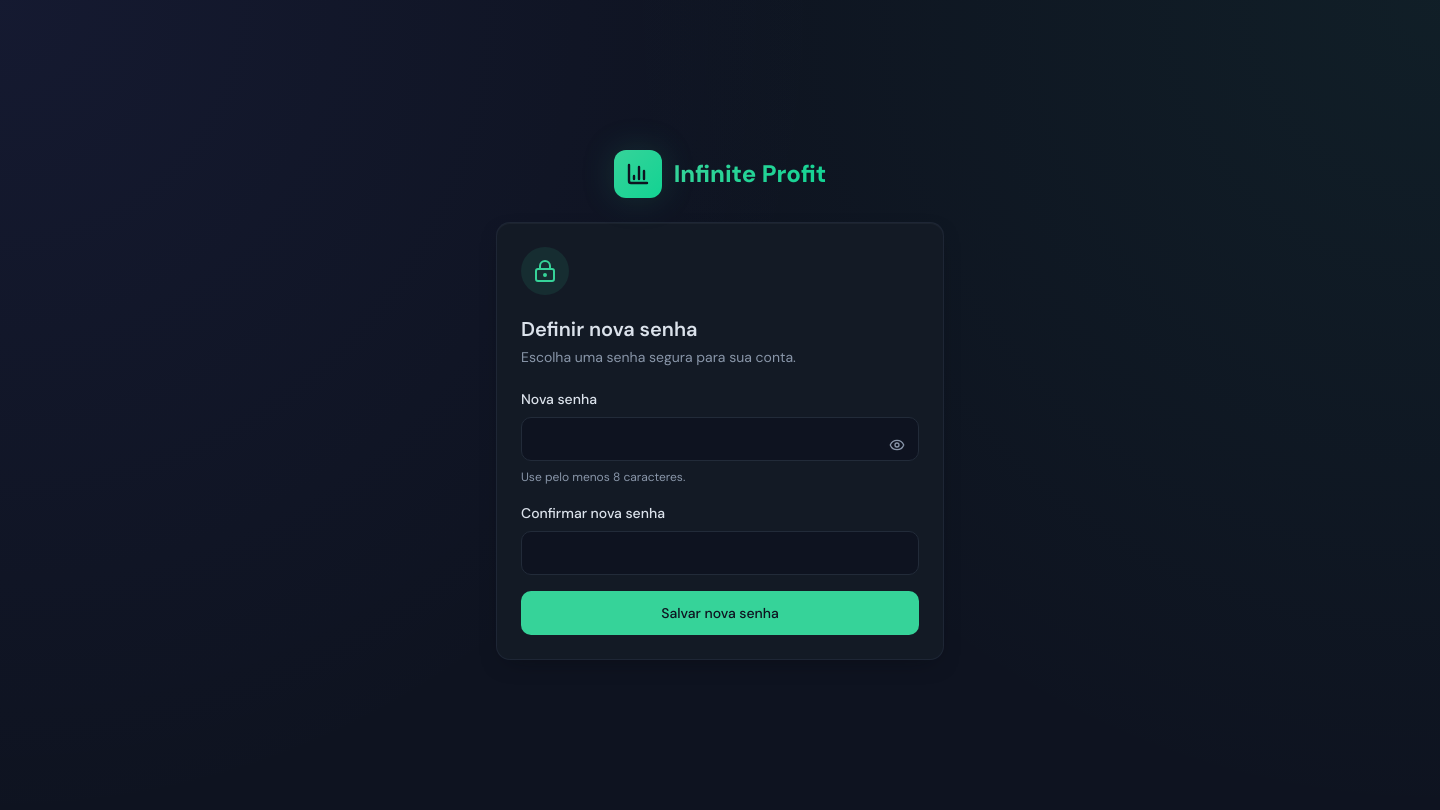
Test: ResetPassword › validates matching passwords before updating the account
In the password field labelled "Nova senha": x=720, y=439 [521,417,919,461], type "password-123"
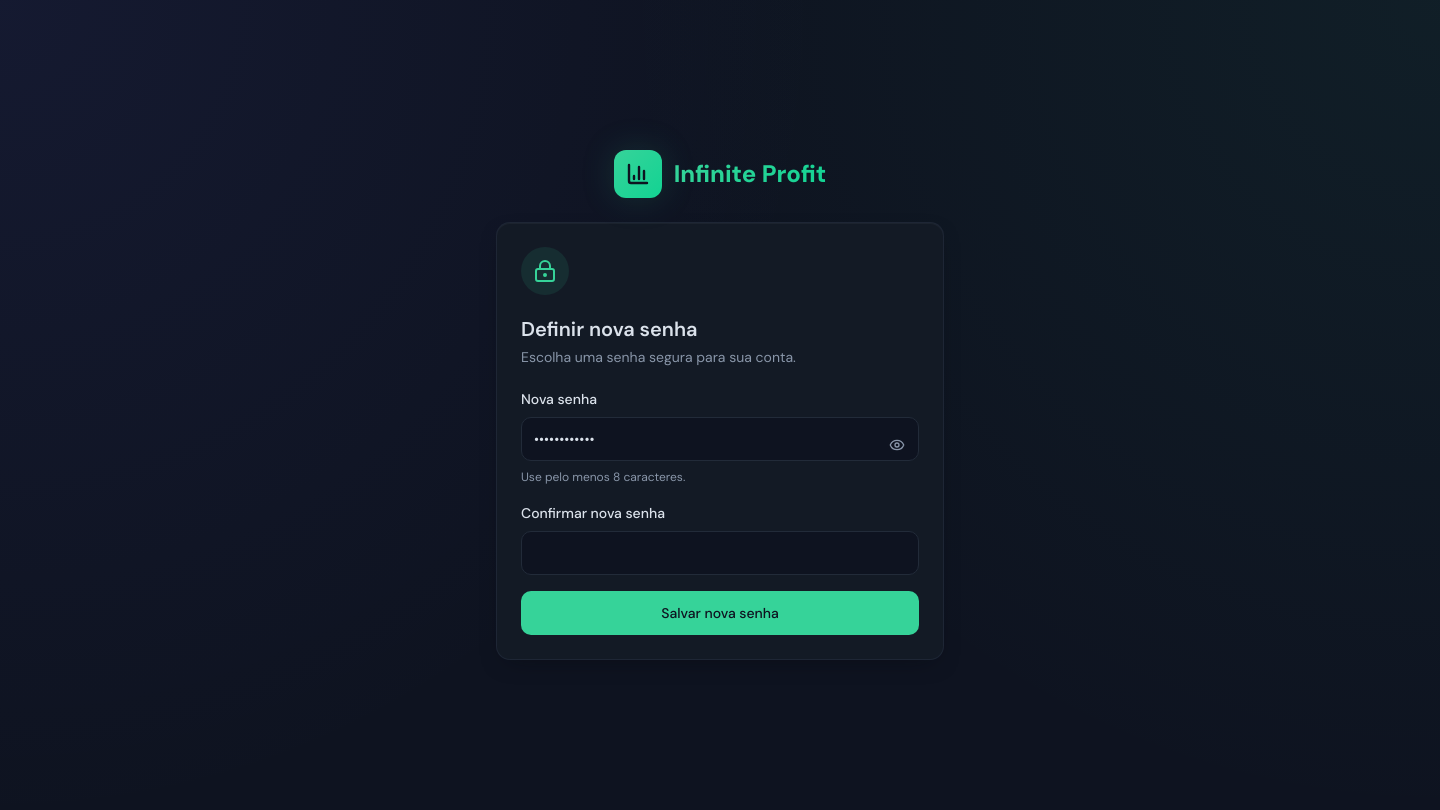
In the password field labelled "Confirmar nova senha": x=720, y=553 [521,531,919,575], type "different-123"
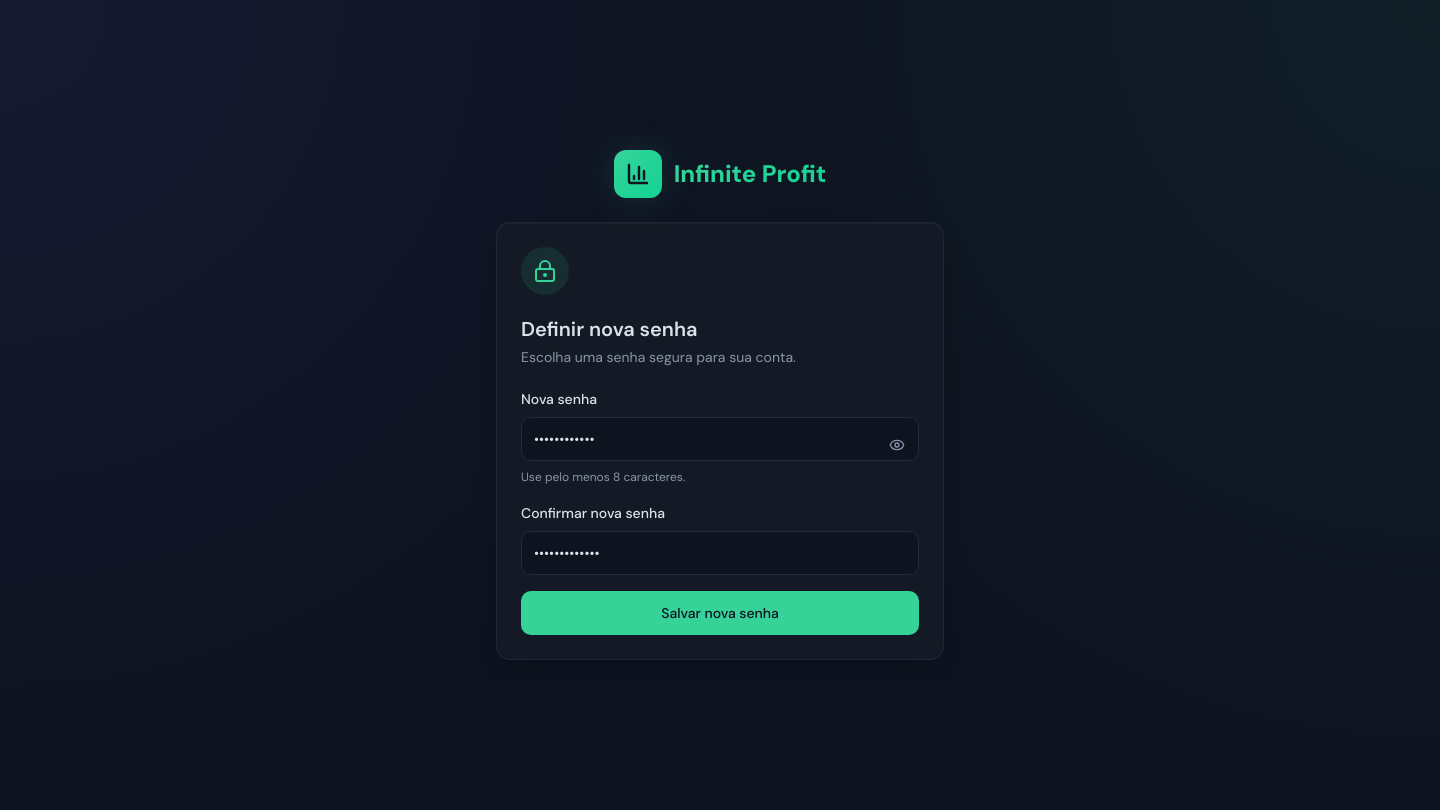
Click the button "Salvar nova senha": x=720, y=613 [521,591,919,635]
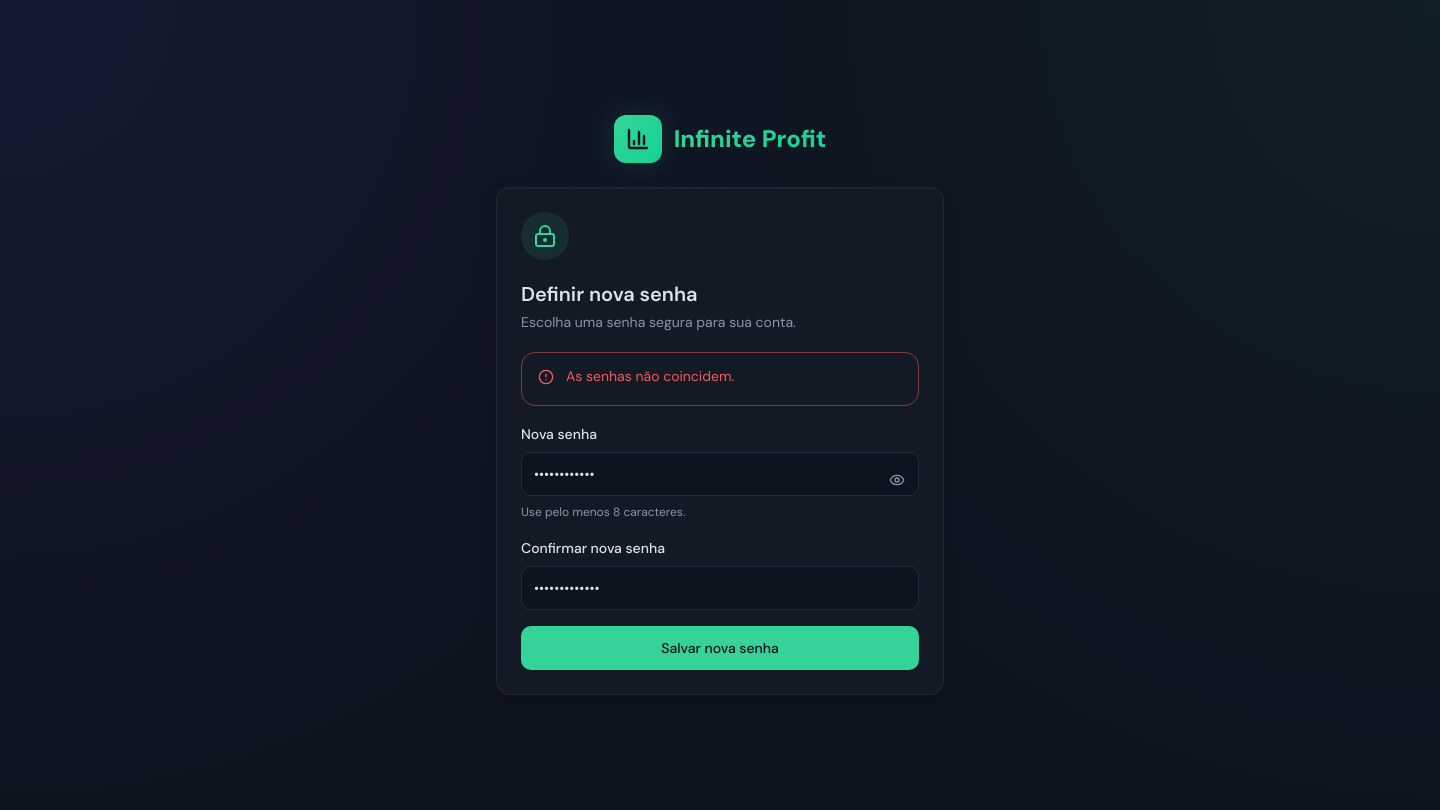
Result: the text "As senhas não coincidem." is shown at [566,367,734,385]
